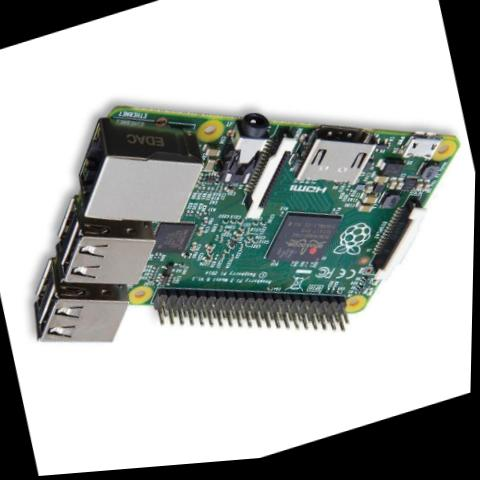Raspberry-Pi-2-Model-B: (0, 6, 479, 438)
